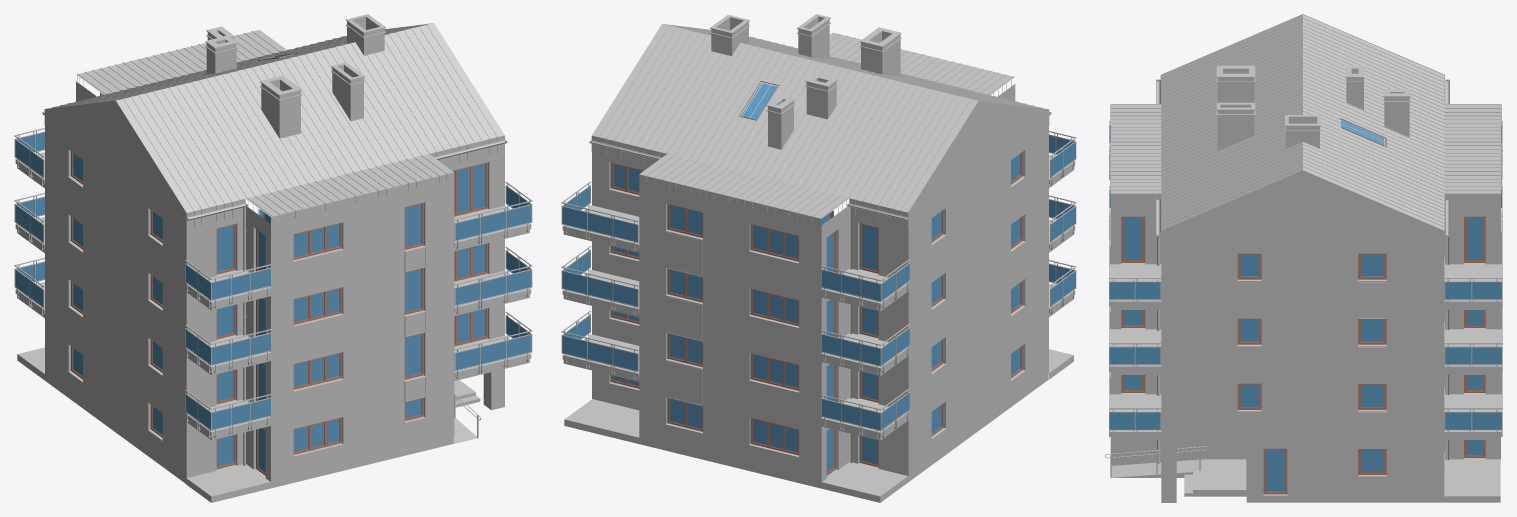
Rendered from building.glb.
3 renders of one model, left to right at view 1: azimuth 30°, elevation 25°; view 2: azimuth 150°, elevation 25°; view 3: azimuth 270°, elevation 25°, orthographic.
Parts seen in each view (by area): view 1: gutters_003, barrels, window_005; view 2: gutters_003, barrels, window_005; view 3: gutters_003, barrels, window_005.
Boxes of the visible parts, x1,y1,x2,y2 form: gutters_003: (14, 14, 532, 502); barrels: (15, 55, 531, 472); window_005: (71, 53, 487, 475); gutters_003: (561, 14, 1076, 502); barrels: (562, 83, 1075, 472); window_005: (610, 81, 1022, 475); gutters_003: (1105, 14, 1502, 502); barrels: (1109, 120, 1501, 491); window_005: (1121, 118, 1485, 494).
Size of the model in its own units: 6.12 by 6.34 by 6.55.
